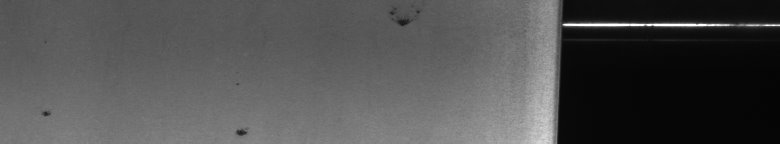fi: (389, 4, 421, 32)
